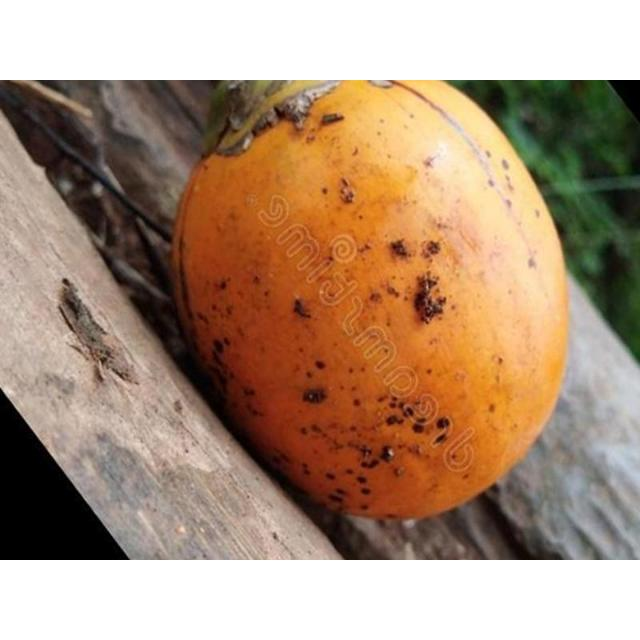good: (168, 80, 574, 524)
